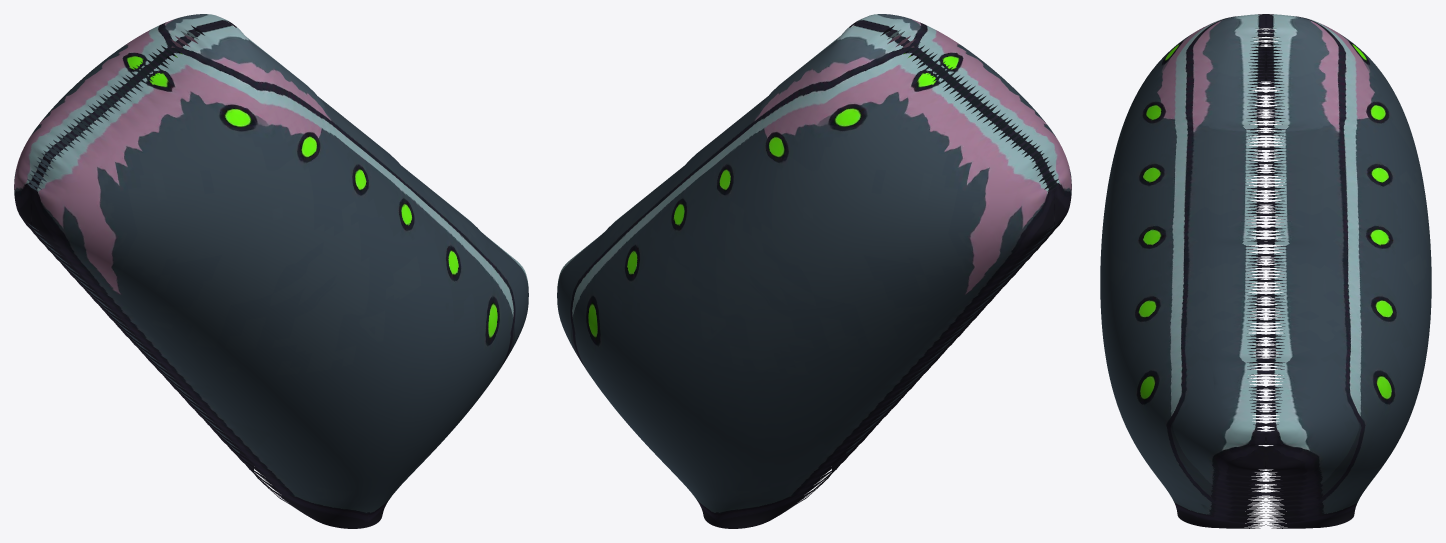
Rendered from angled_barricade.glb.
The picture shows the model from 3 angles, left to right: view 1: azimuth 30°, elevation 25°; view 2: azimuth 150°, elevation 25°; view 3: azimuth 270°, elevation 25°; orthographic projection. The views are drawn at different scales.
Parts seen in each view (by area): view 1: angled_barricade; view 2: angled_barricade; view 3: angled_barricade.
Boxes of the visible parts, x1,y1,x2,y2 form: angled_barricade: (14, 14, 528, 528); angled_barricade: (557, 14, 1071, 528); angled_barricade: (1100, 14, 1431, 528).
Size of the model in its own units: 0.9889 by 0.9625 by 0.6472.
Materials: 1 (1 with a texture image).
